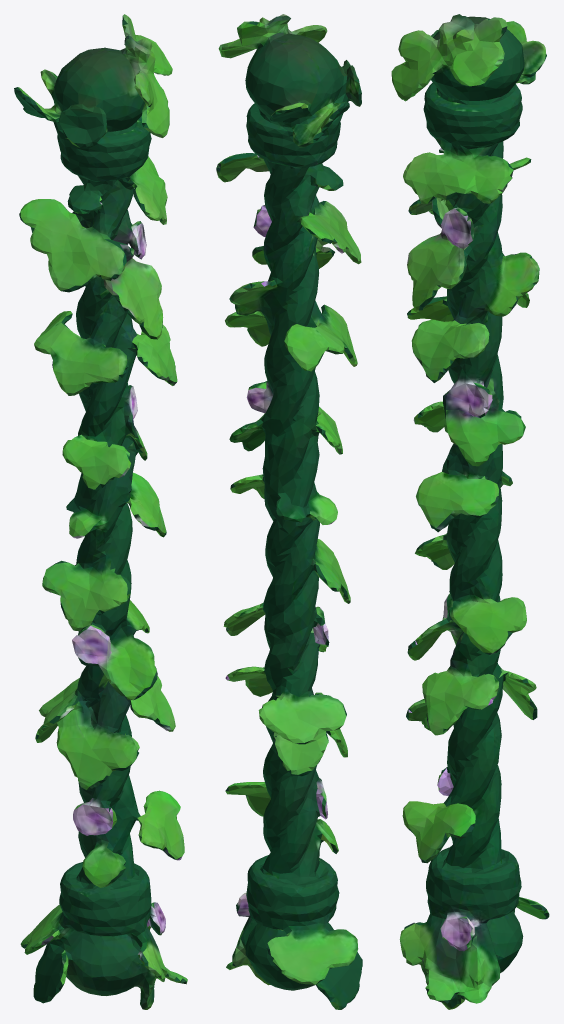
The model's file is vine.glb.
The picture shows the model from 3 angles, left to right: view 1: azimuth 30°, elevation 25°; view 2: azimuth 150°, elevation 25°; view 3: azimuth 270°, elevation 25°; orthographic projection.
Visible parts, largest first — view 1: tmpwztn29dq.ply; view 2: tmpwztn29dq.ply; view 3: tmpwztn29dq.ply.
Part boxes in pixels (x1=…): tmpwztn29dq.ply: x1=14, y1=14, x2=187, y2=1009; tmpwztn29dq.ply: x1=216, y1=14, x2=362, y2=1009; tmpwztn29dq.ply: x1=391, y1=14, x2=549, y2=1009.
Size of the model in its own units: 0.2988 by 1.99 by 0.2877.
1 material, 1 textured.
